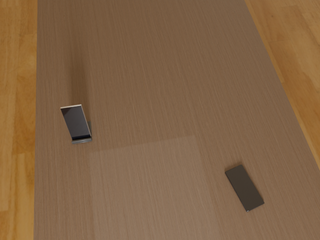phone: (225, 165, 264, 212), (60, 105, 91, 140)
